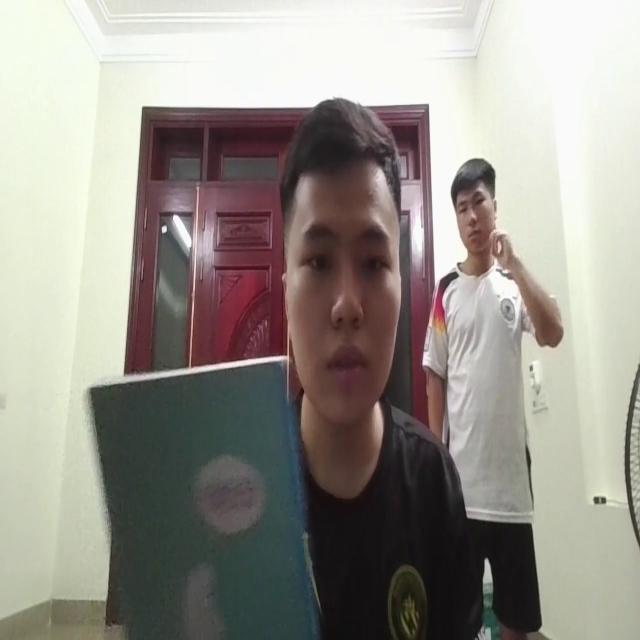book: (65, 359, 311, 640)
extra_person: (423, 146, 553, 633)
student: (279, 101, 421, 640)
